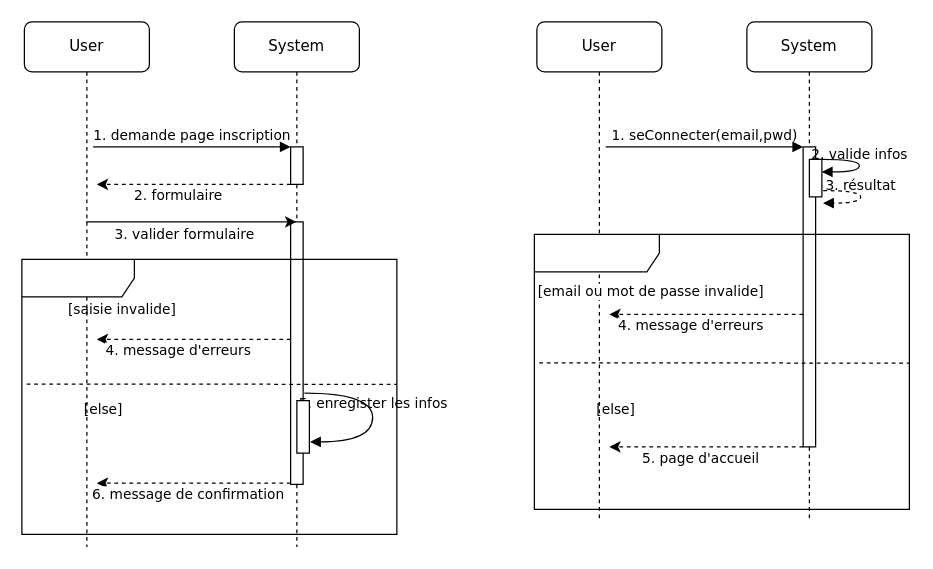
This 933x569 diagram has some shape labels left out. The shapes that lost their labels are listed below. From the top down, each one's centre as x and y in pixels, then its label:
the point at 721,371: ref Se connecter
the point at 209,396: ref S'inscrire
